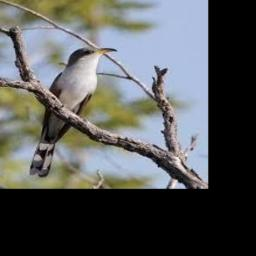Cuckoo: (29, 47, 117, 178)
